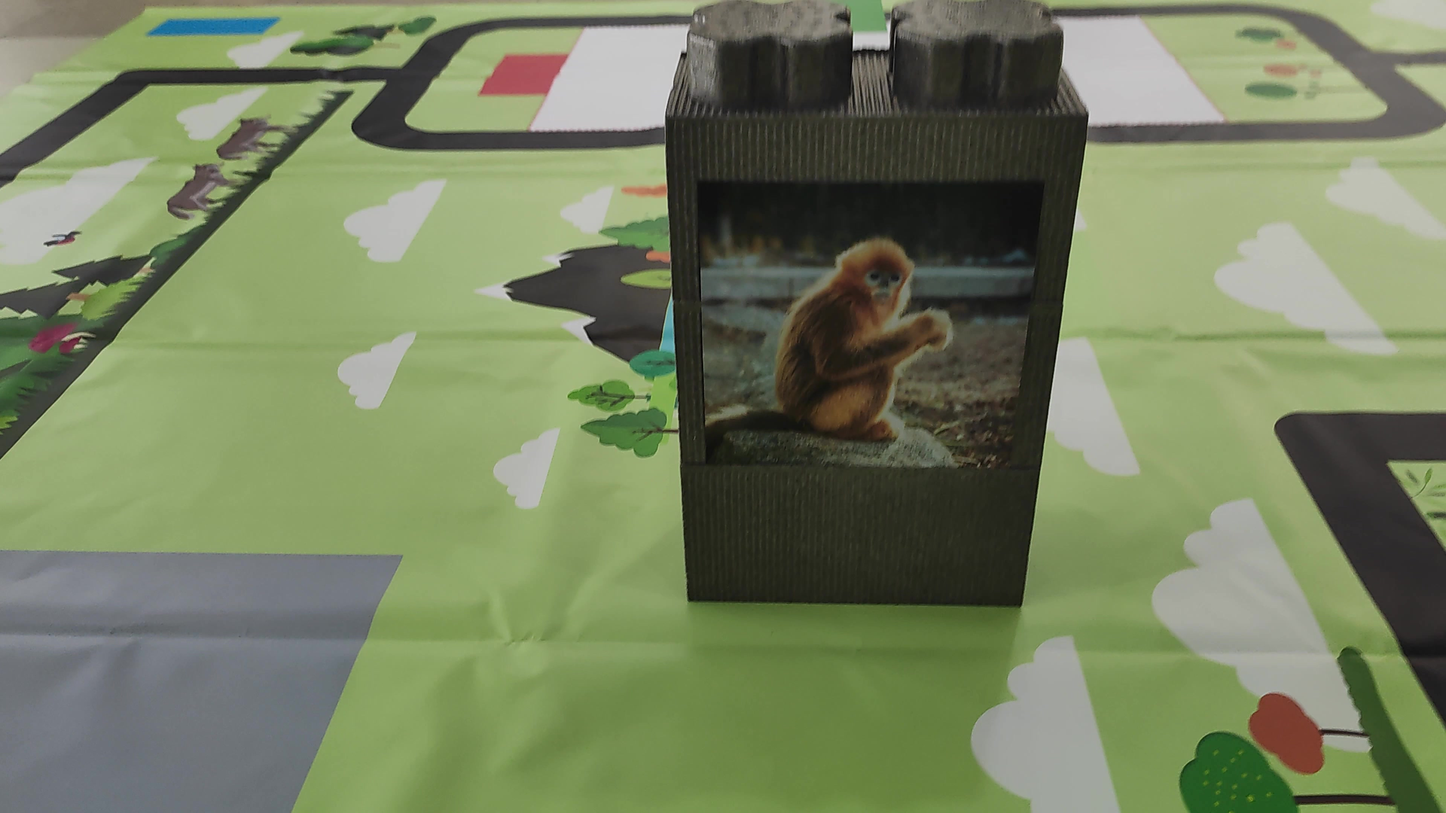monkey: (756, 206, 982, 452)
